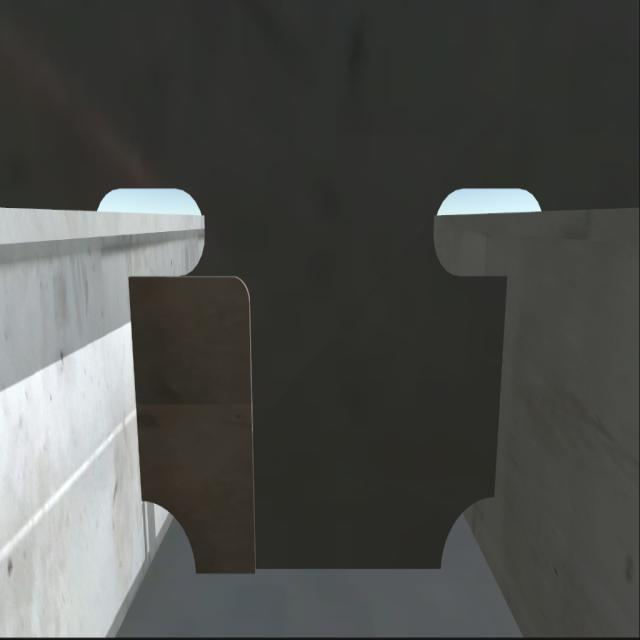fillet_hole: (439, 497, 496, 575), (145, 503, 195, 577)
fillet_yong_jeop_jang: (193, 552, 451, 580)
longi_yong_jeop_jang: (478, 273, 516, 505), (124, 263, 147, 502)
plate_CP05: (136, 275, 255, 577)
